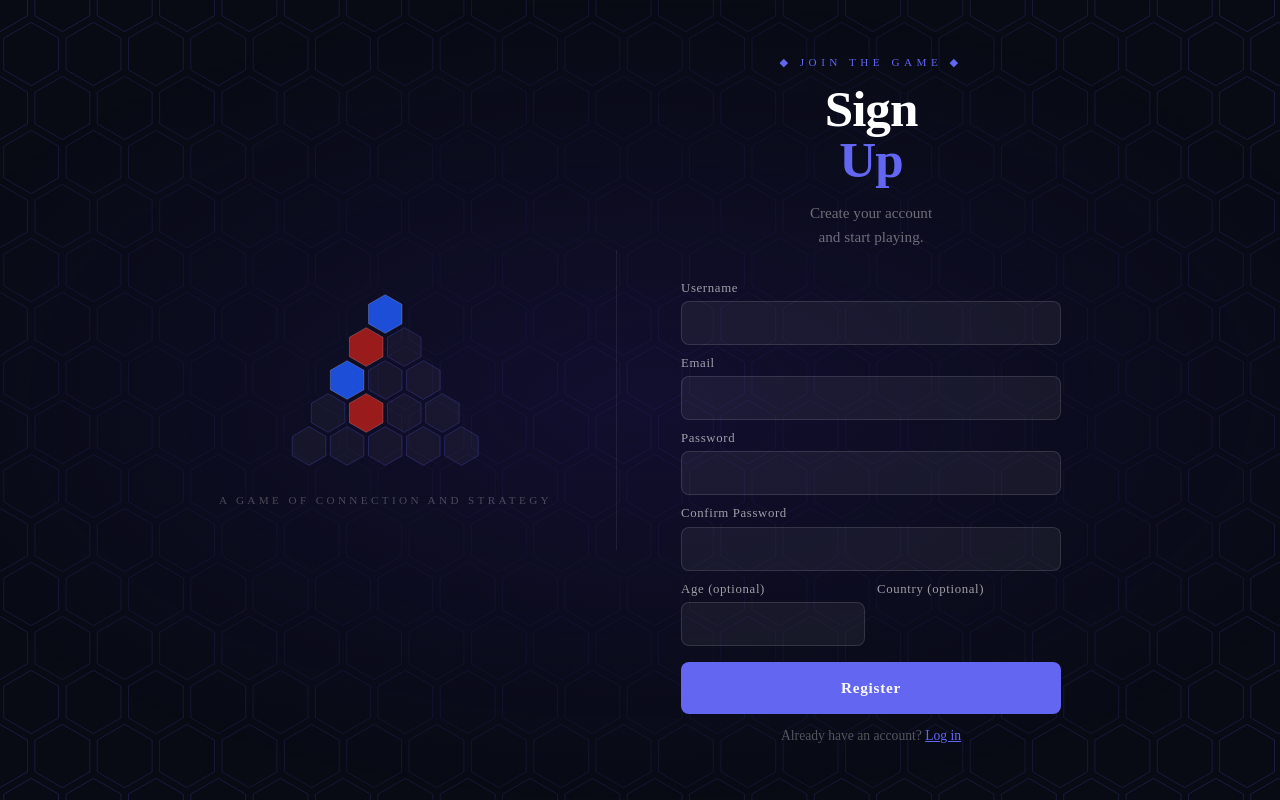
Test: RegisterForm › displays server error message on failure
Type "Pablo" into the field labelled "Username" at {"x": 871, "y": 323}, box top-left (681, 301), bottom-right (1061, 345)
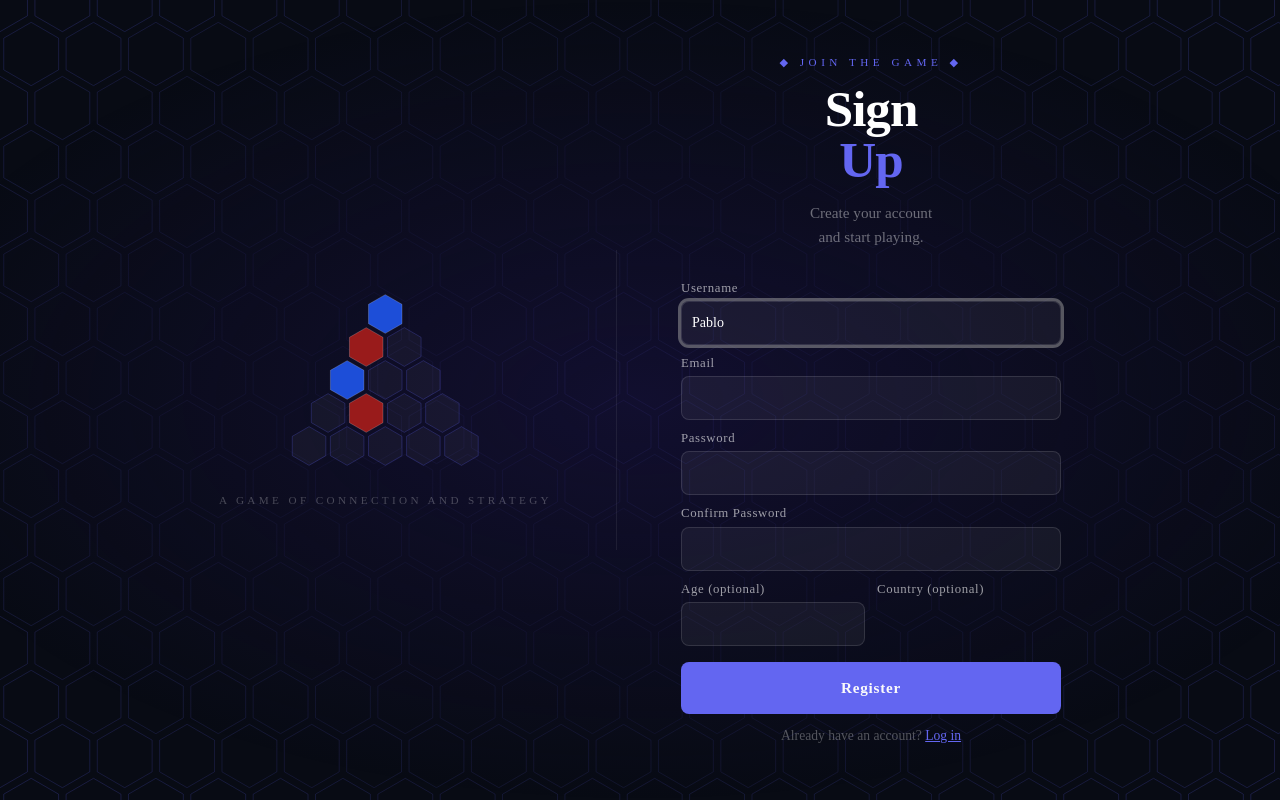
Type "pablo@test.com" into the field labelled "Email" at {"x": 871, "y": 398}, box top-left (681, 376), bottom-right (1061, 420)
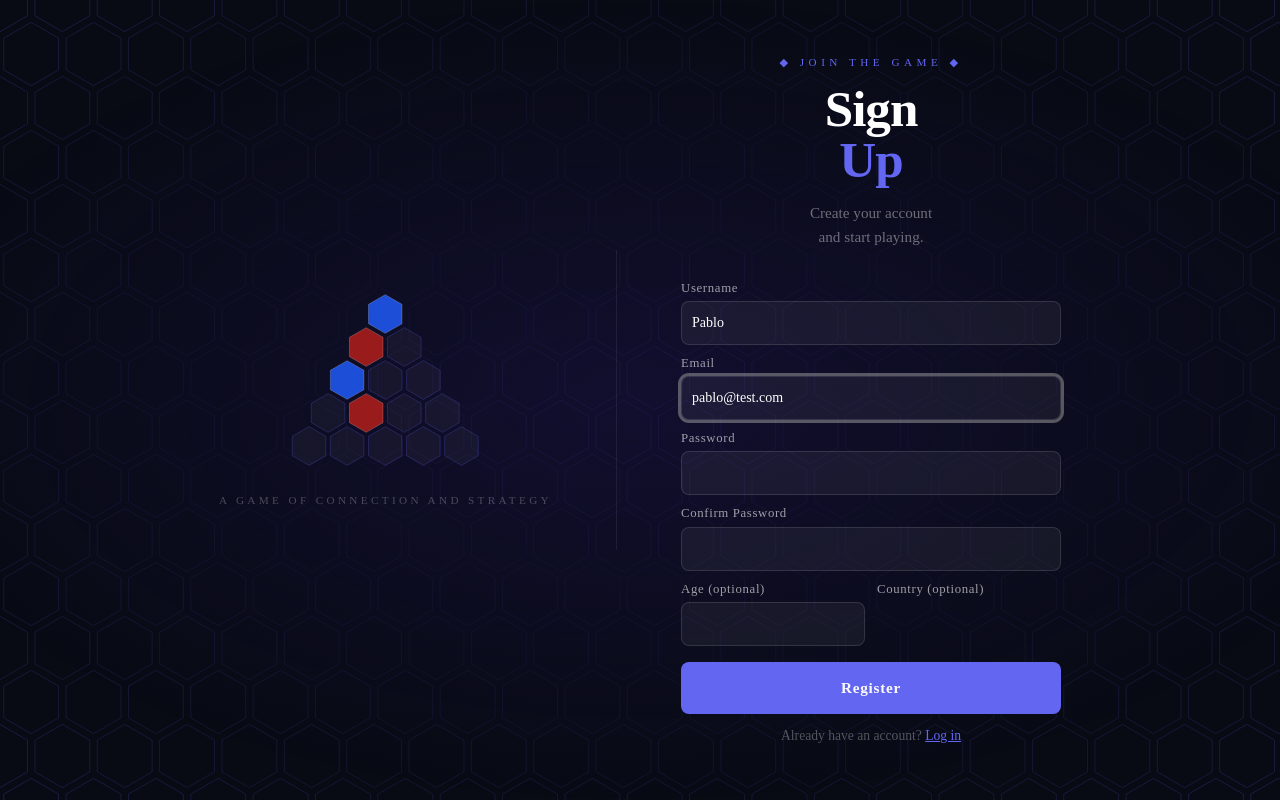
Type "secret123" into the password field labelled "Password" at {"x": 871, "y": 473}, box top-left (681, 451), bottom-right (1061, 495)
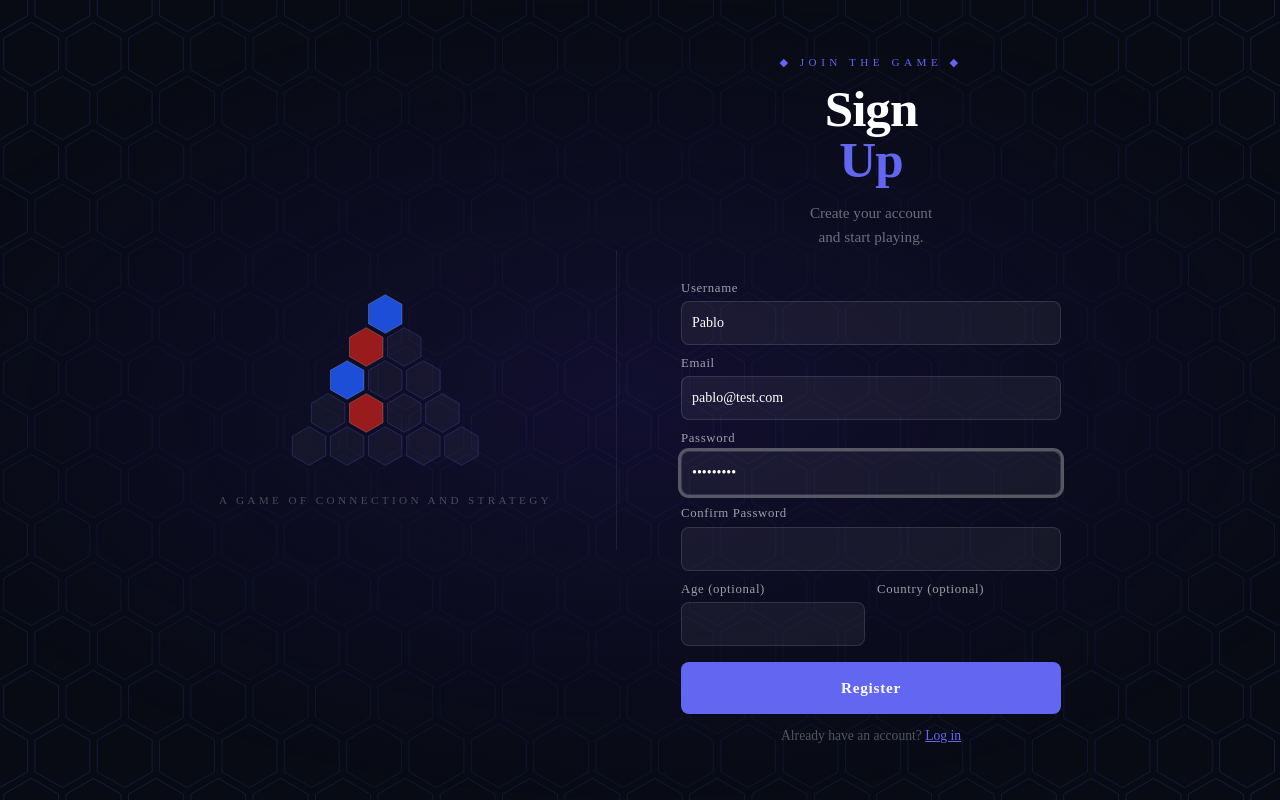
Type "secret123" into the password field labelled "Confirm Password" at {"x": 871, "y": 548}, box top-left (681, 526), bottom-right (1061, 570)
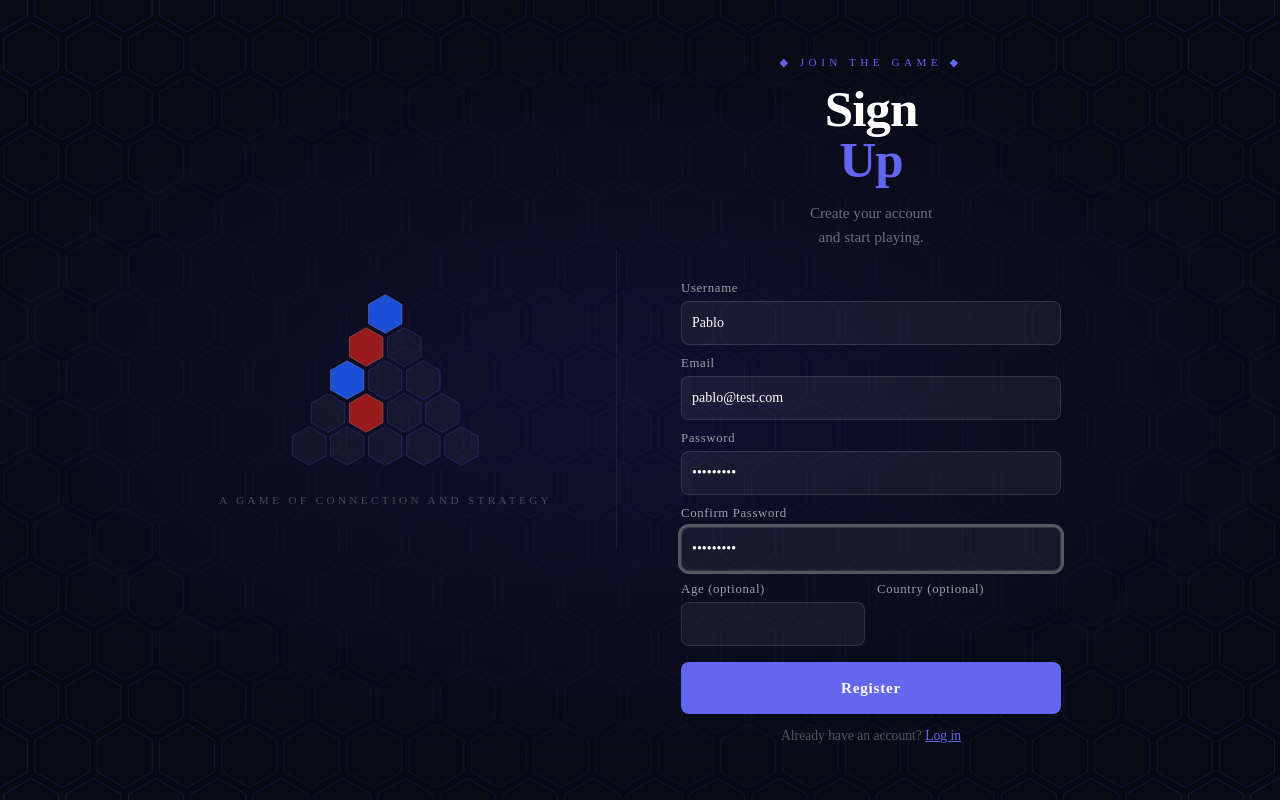
Click the button "Register" at {"x": 871, "y": 688}, box top-left (681, 662), bottom-right (1061, 714)
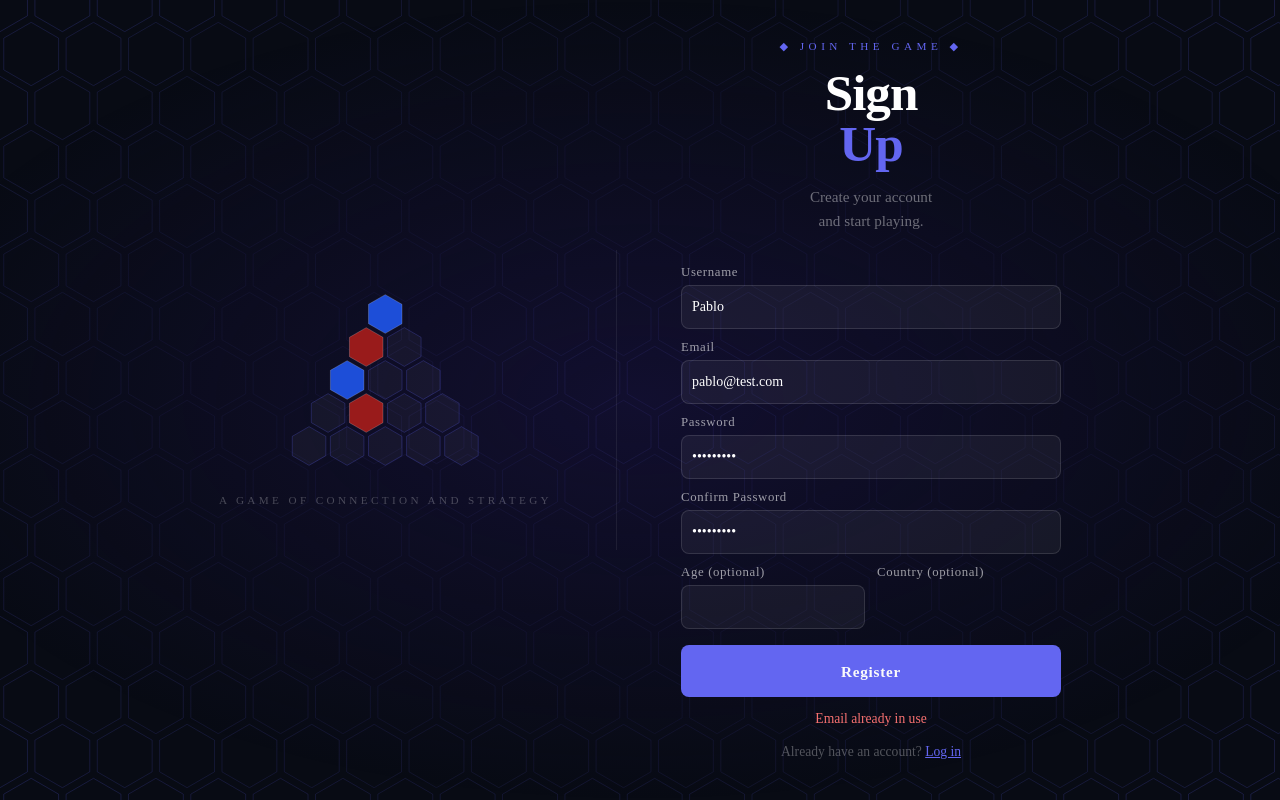
Result: the text "Email already in use" is shown at top-left (815, 712), bottom-right (927, 726)
